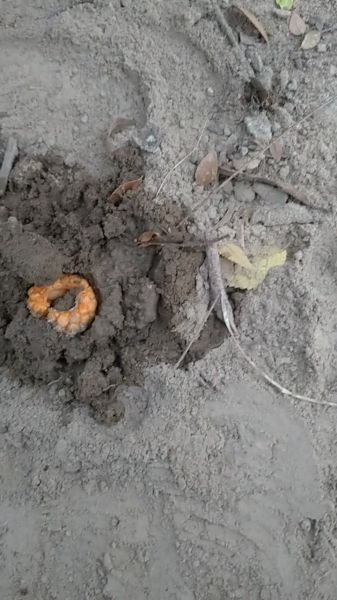eggs: (20, 270, 101, 341)
